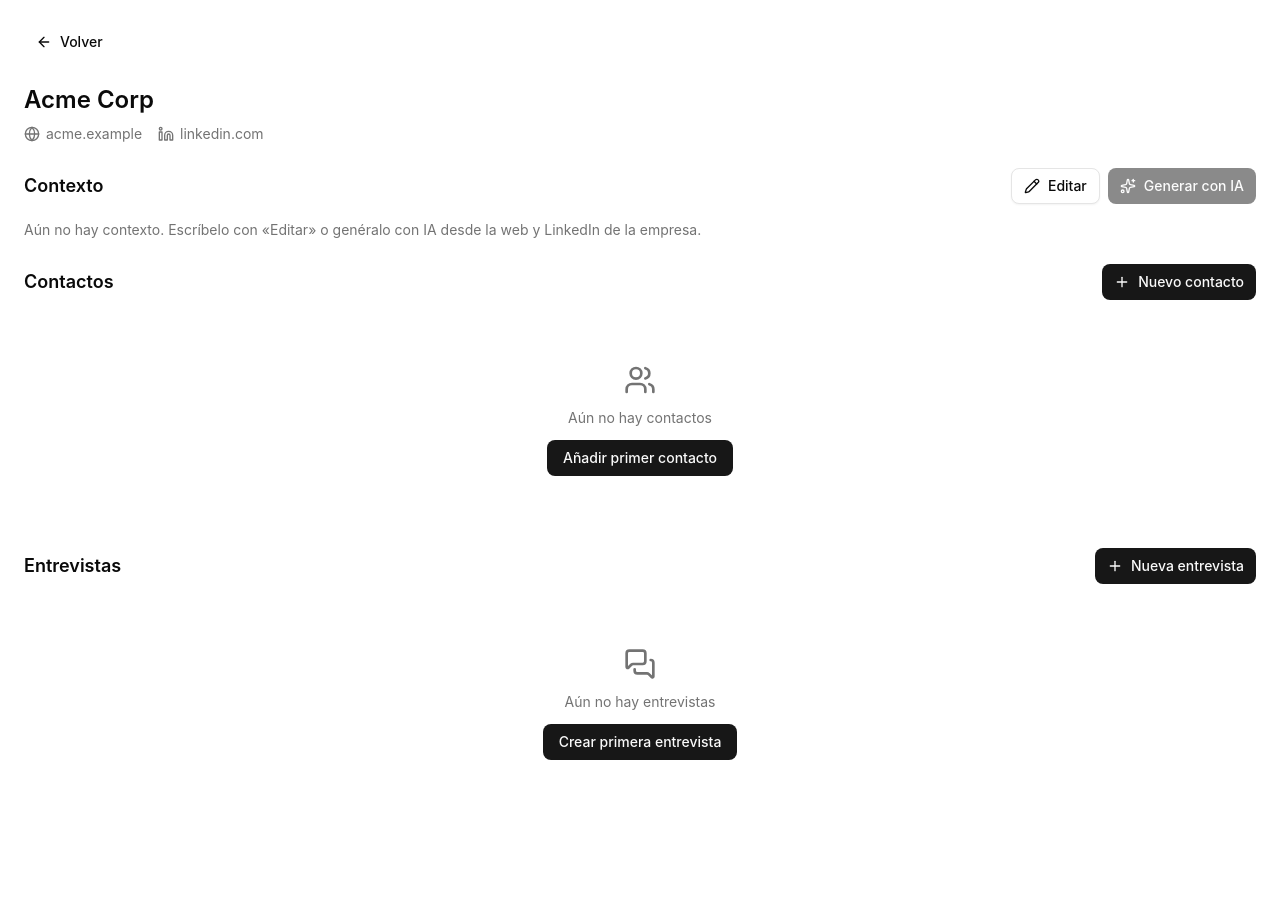
Test case: CompanyDetailPage › creating a contact › creates via createContact with normalized optionals, shows "Contacto creado" and lists the row
This screenshot has width=1280, height=900.
Click the button "Nuevo contacto" at (1179, 282), box [1102, 264, 1256, 300]
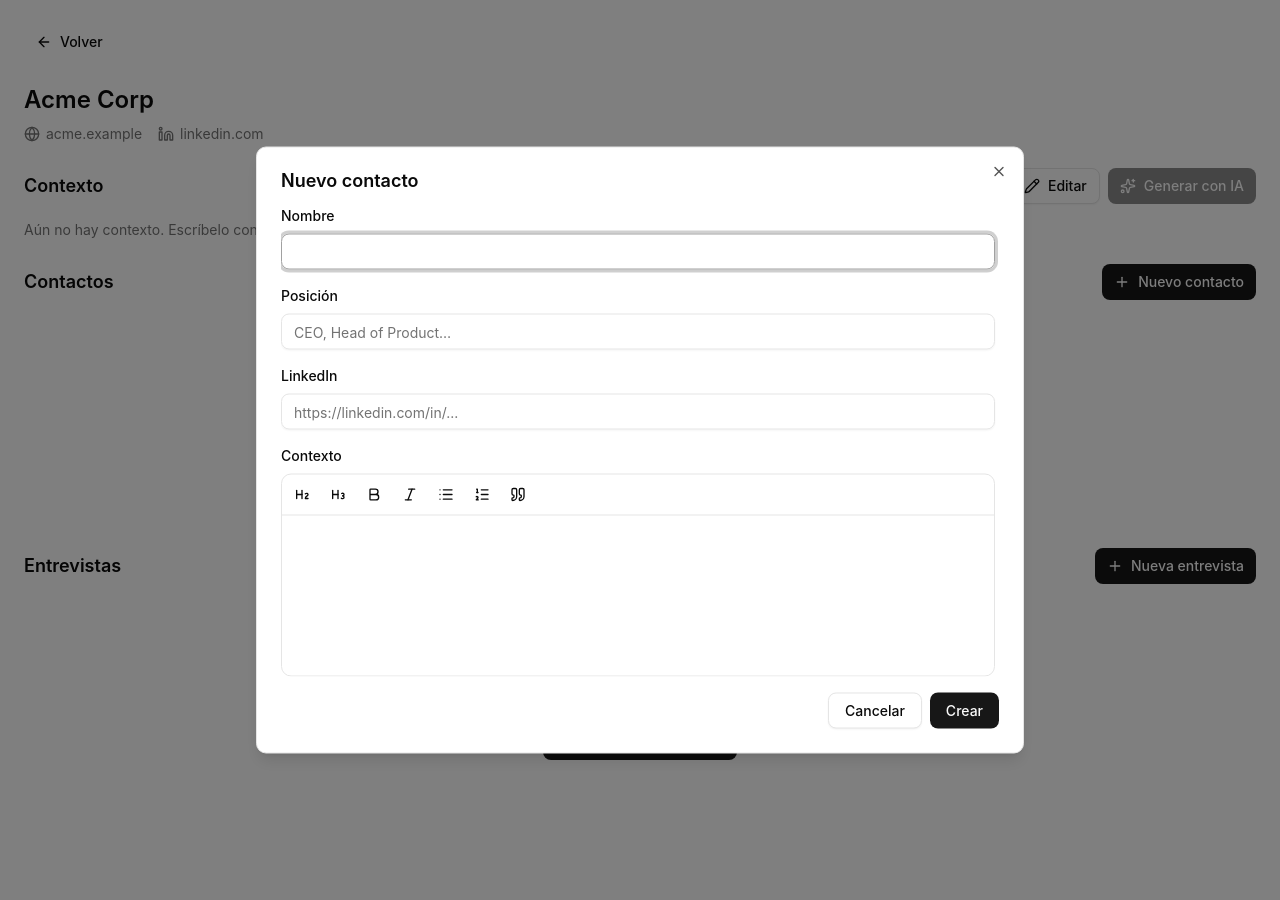
Check: the dialog is shown, box [256, 146, 1024, 754]
Type "Jane Doe" into the field labelled "Nombre" at (638, 252), box [281, 234, 995, 270]
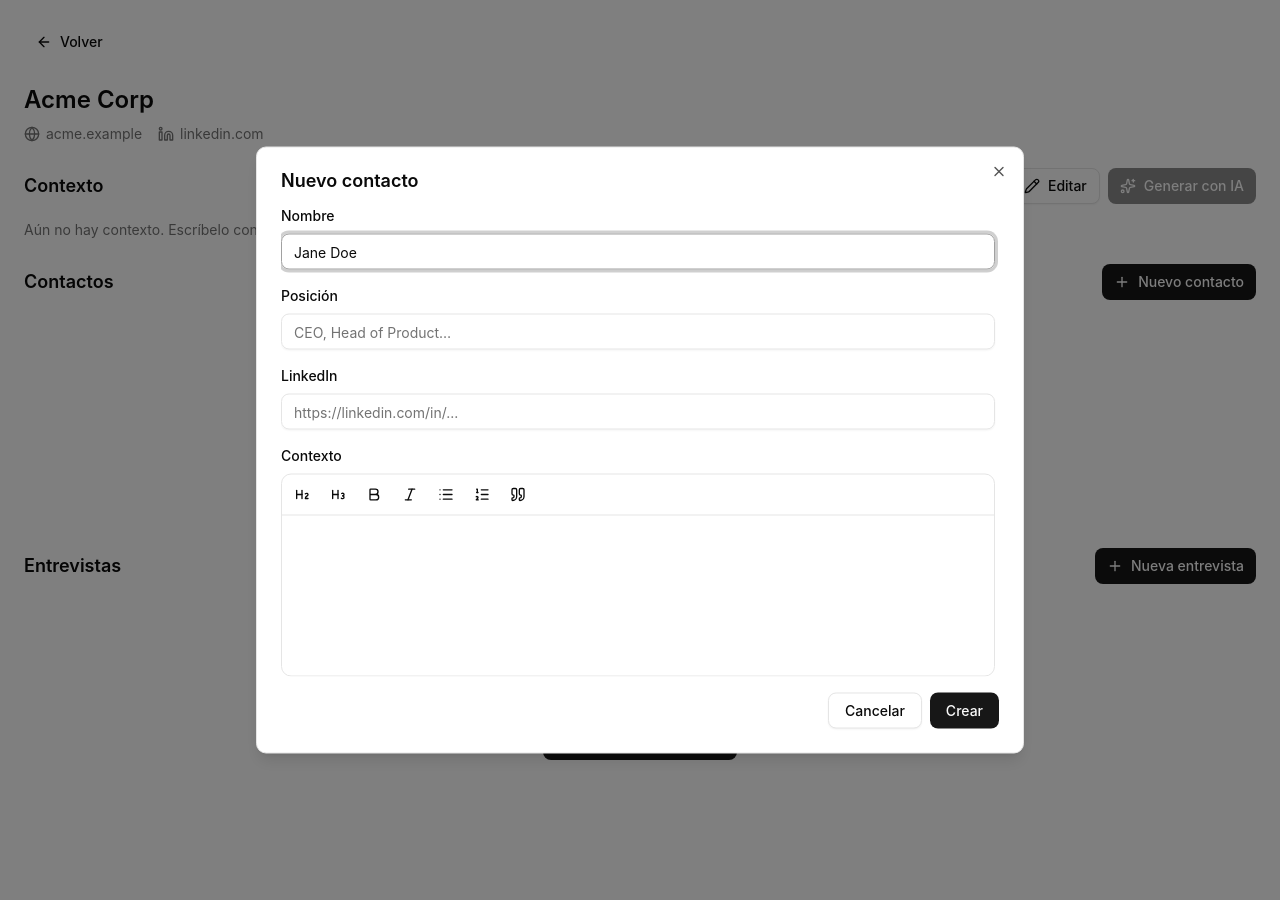
Type "CTO" into the field labelled "Posición" at (638, 332), box [281, 314, 995, 350]
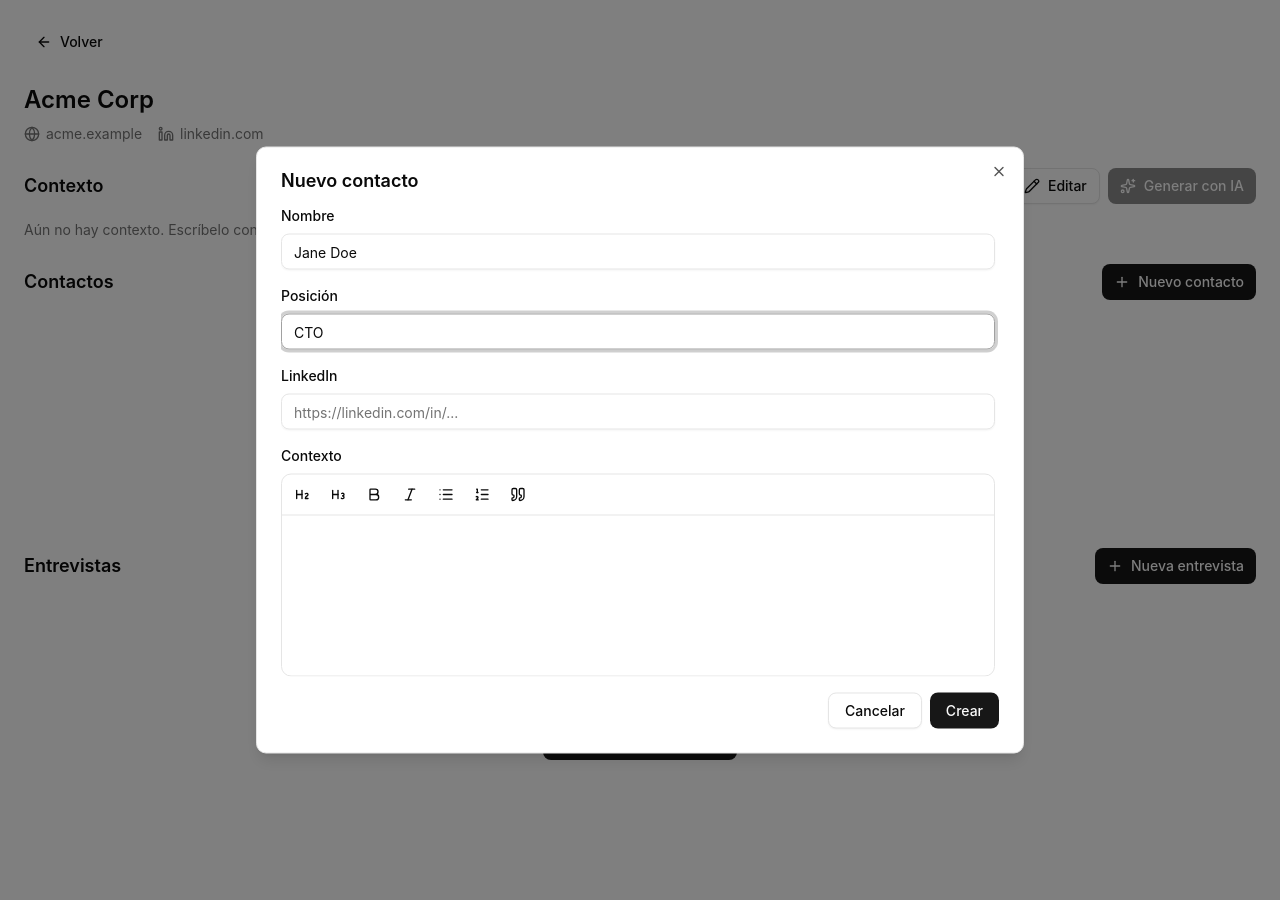
Click the button "Crear" at (964, 710), box [930, 692, 999, 728]
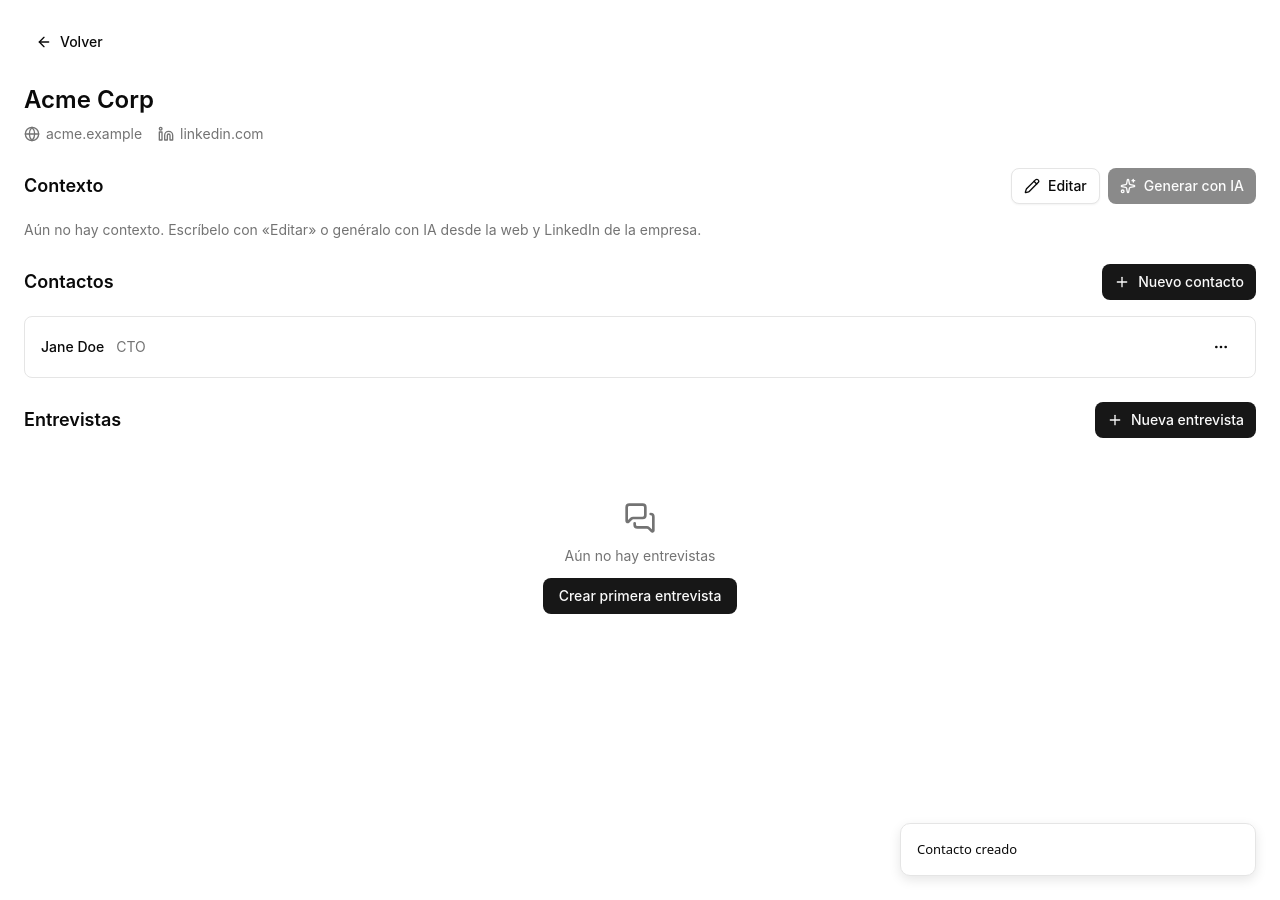
Check: the dialog is gone
Check: the text "Jane Doe" is shown, box [41, 337, 104, 357]
